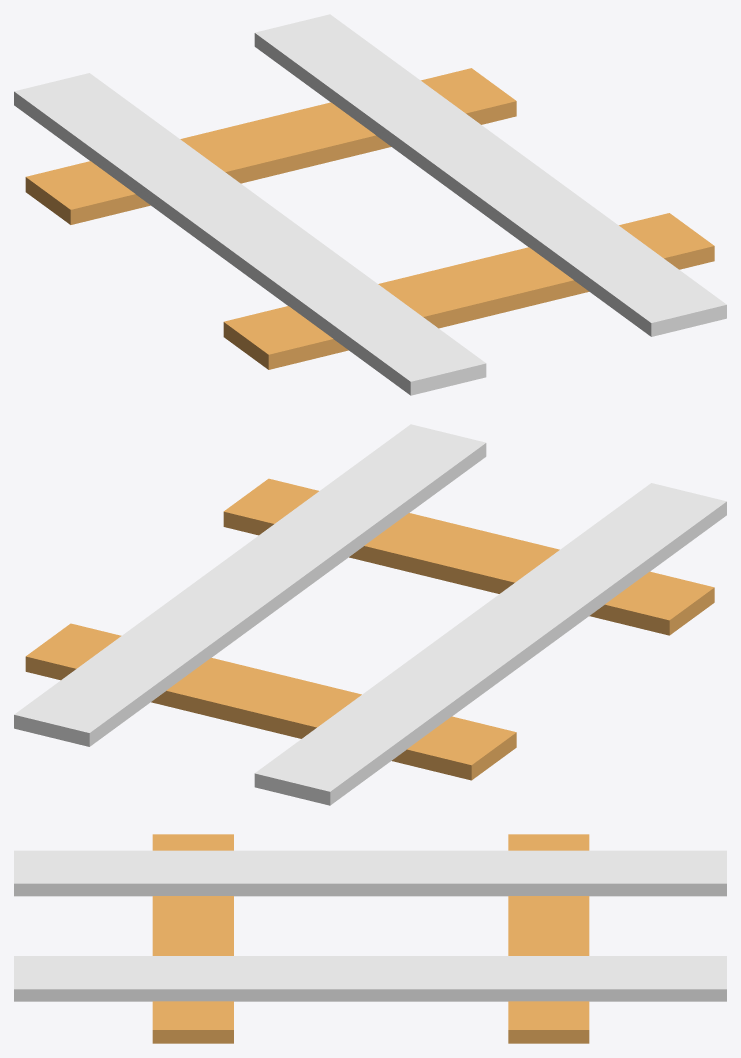
Rendered from RailStraight.fbx.
3 views of the same model, one above another, from view 1: azimuth 30°, elevation 25°; view 2: azimuth 150°, elevation 25°; view 3: azimuth 270°, elevation 25° (orthographic). The views are drawn at different scales.
Visible parts, largest first — view 1: Rail_Szyny_Straight, Rail_Track_Straight; view 2: Rail_Szyny_Straight, Rail_Track_Straight; view 3: Rail_Szyny_Straight, Rail_Track_Straight.
Boxes of the visible parts, <box> form: Rail_Szyny_Straight: <box>14,14,726,395</box>; Rail_Track_Straight: <box>25,68,714,369</box>; Rail_Szyny_Straight: <box>14,424,726,805</box>; Rail_Track_Straight: <box>25,478,714,780</box>; Rail_Szyny_Straight: <box>14,850,726,1001</box>; Rail_Track_Straight: <box>152,834,589,1043</box>.
Bounding box in the file's own units: 64.89 × 4.02 × 100.
